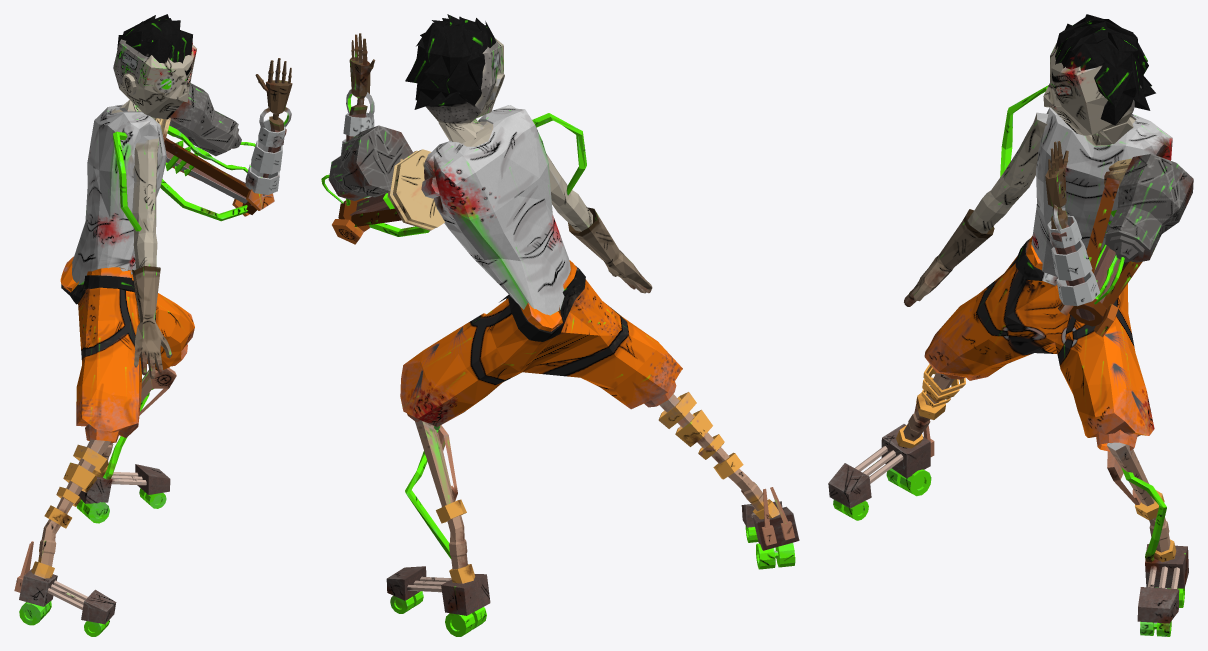
The model's file is CyborgFINALAnimation_000031.obj.
3 renders of one model, left to right at view 1: azimuth 30°, elevation 25°; view 2: azimuth 150°, elevation 25°; view 3: azimuth 270°, elevation 25°, orthographic. The views are drawn at different scales.
Parts seen in each view (by area): view 1: CyborgMesh_Cube.002; view 2: CyborgMesh_Cube.002; view 3: CyborgMesh_Cube.002.
Boxes of the visible parts, x1=… form: CyborgMesh_Cube.002: x1=14, y1=14, x2=292, y2=636; CyborgMesh_Cube.002: x1=321, y1=14, x2=799, y2=636; CyborgMesh_Cube.002: x1=828, y1=14, x2=1193, y2=636.
Bounding box in the file's own units: 5.98 × 8.68 × 4.73.
